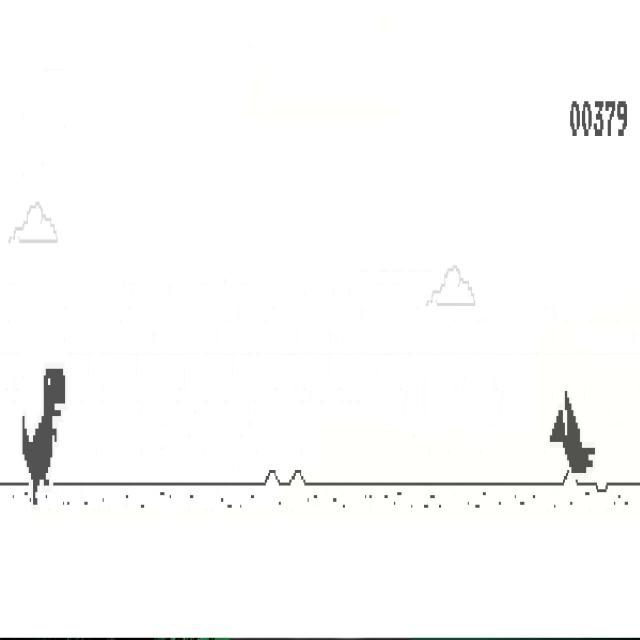dino: (21, 368, 66, 506)
ptero: (549, 390, 595, 475)
